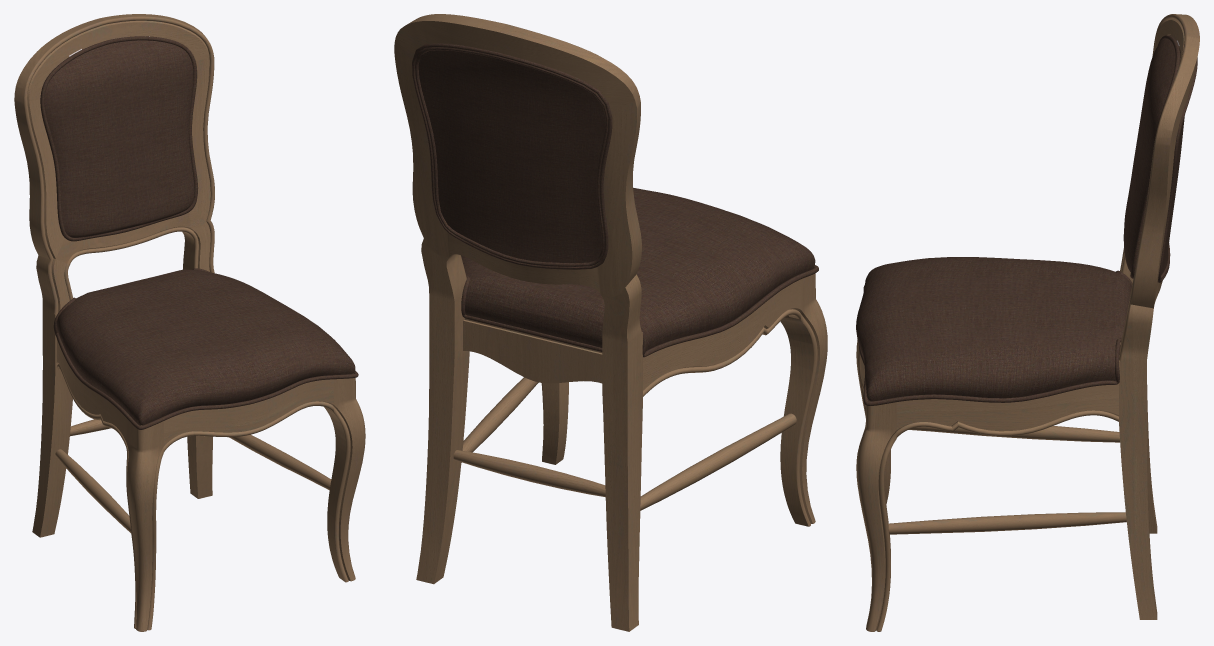
Rendered from example71.gltf.
3 views of the same model, side by side, from view 1: azimuth 30°, elevation 25°; view 2: azimuth 150°, elevation 25°; view 3: azimuth 270°, elevation 25° (orthographic). The views are drawn at different scales.
Bounding box in the file's own units: 48.6 × 95.93 × 55.71.
Materials: 3 (2 with a texture image).
